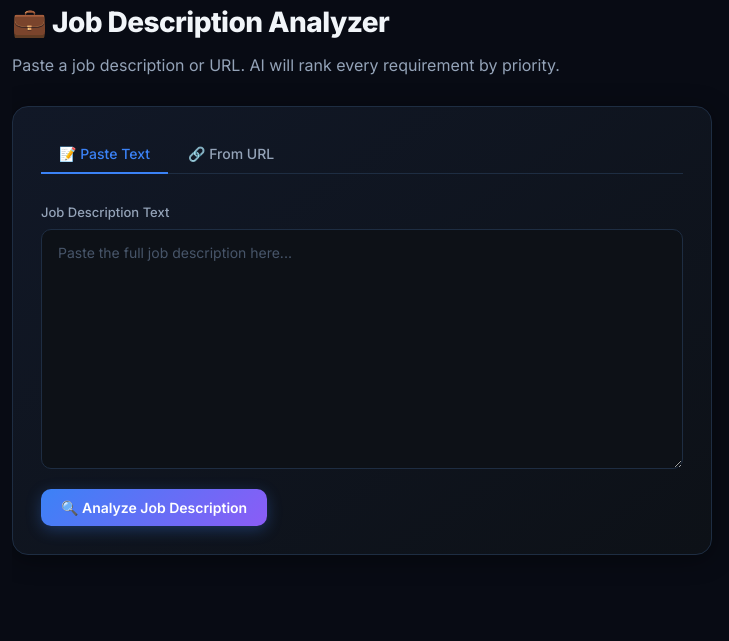
Test: JobPage - Input State › shows error on API failure
The image size is (729, 641).
In the text box with placeholder "Paste the full job description here...": {"x": 362, "y": 349} [41, 229, 683, 469], type "We need a Python developer"
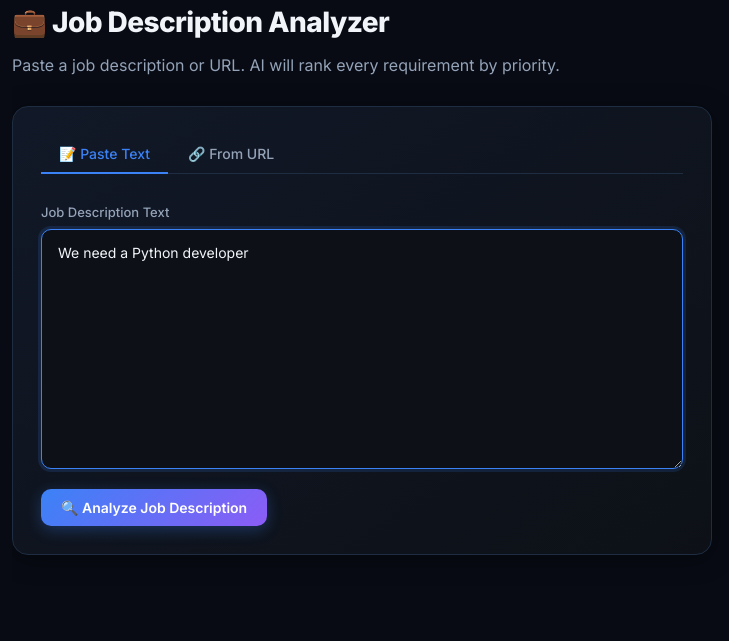
Click the button "🔍 Analyze Job Description": {"x": 154, "y": 508} [41, 489, 267, 526]
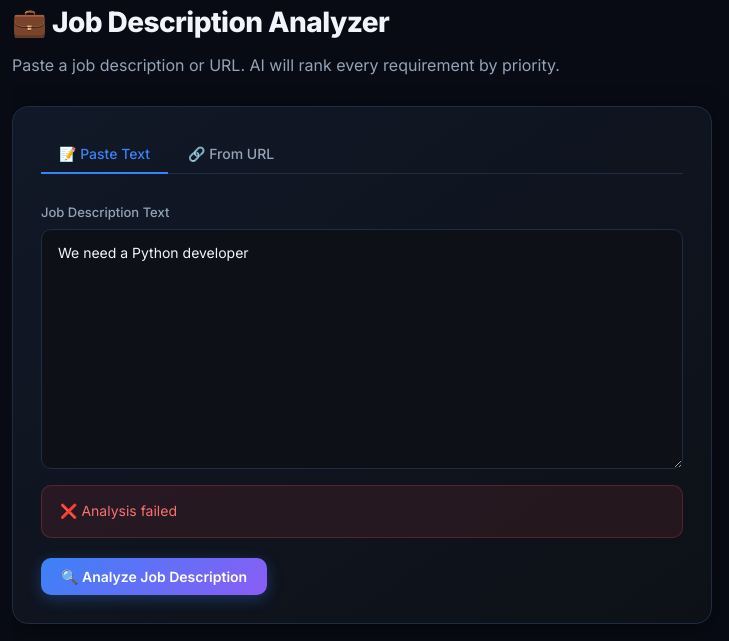
Now the text "❌ Analysis failed" is shown, box [41, 485, 683, 538]
